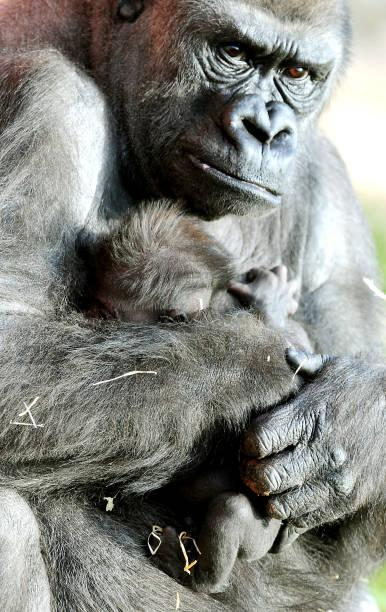gorille_Autres: (1, 1, 386, 612)
